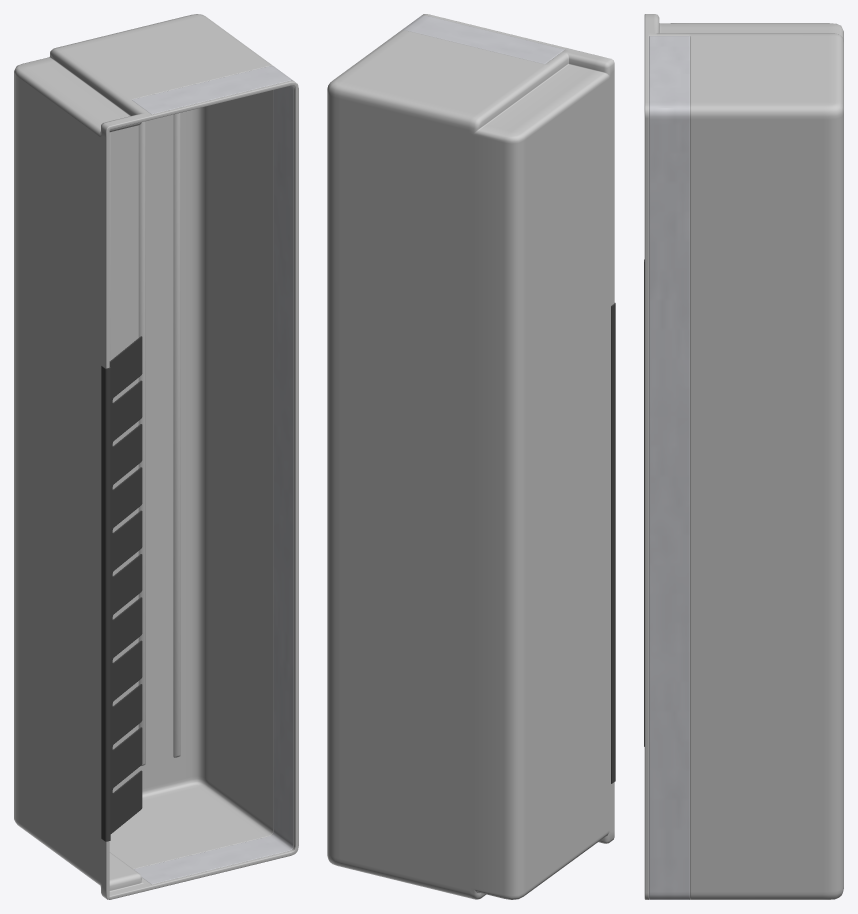
File: SM_Fridge_Door_Tray_01.obj
3 renders of one model, left to right at view 1: azimuth 30°, elevation 25°; view 2: azimuth 150°, elevation 25°; view 3: azimuth 270°, elevation 25°, orthographic. The views are drawn at different scales.
Visible parts, largest first — view 1: SM_Fridge_Door_Tray_01; view 2: SM_Fridge_Door_Tray_01; view 3: SM_Fridge_Door_Tray_01.
Boxes of the visible parts, x1=… form: SM_Fridge_Door_Tray_01: x1=14, y1=14, x2=298, y2=899; SM_Fridge_Door_Tray_01: x1=327, y1=14, x2=615, y2=899; SM_Fridge_Door_Tray_01: x1=644, y1=14, x2=843, y2=899.
Size of the model in its own units: 0.1105 by 0.422 by 0.0963.
3 materials, 2 textured.
